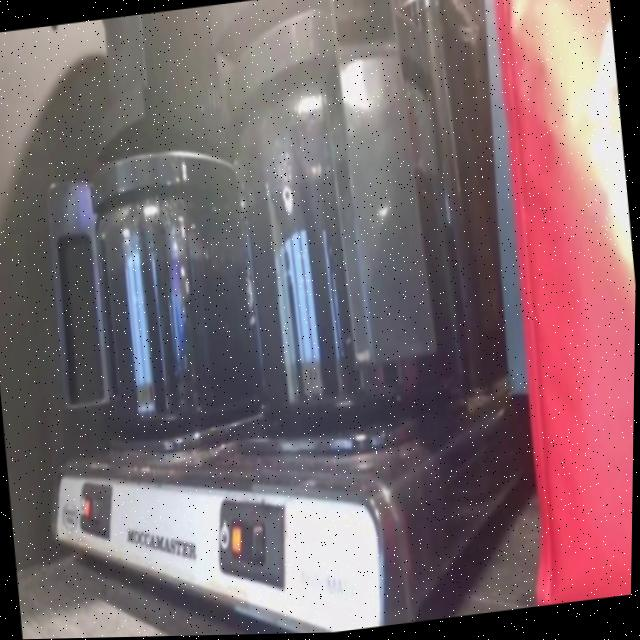coffee: (236, 114, 469, 422), (95, 215, 264, 424)
